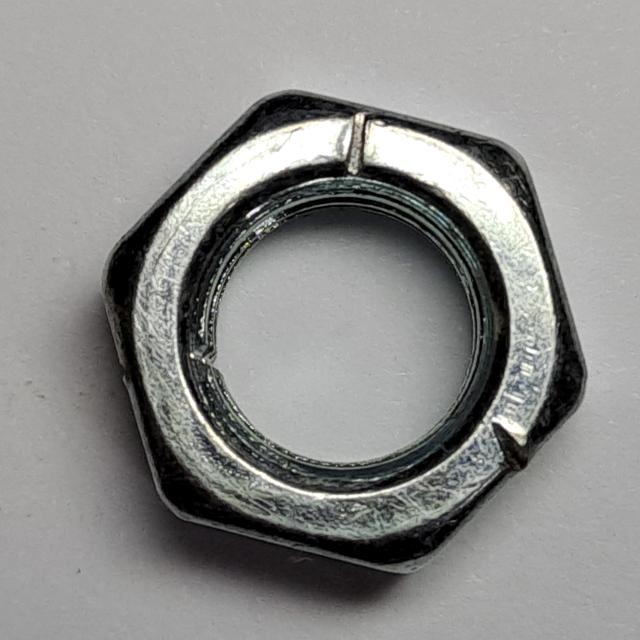Scratches: (93, 75, 614, 586)
